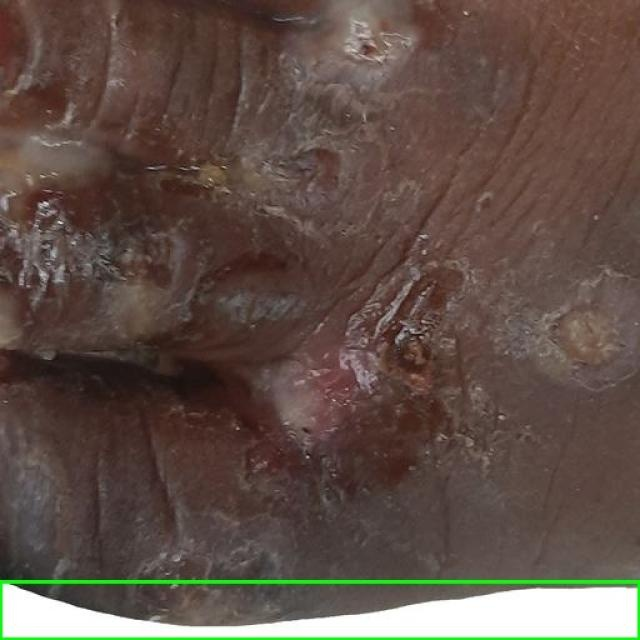Eczema: (0, 581, 639, 639)
